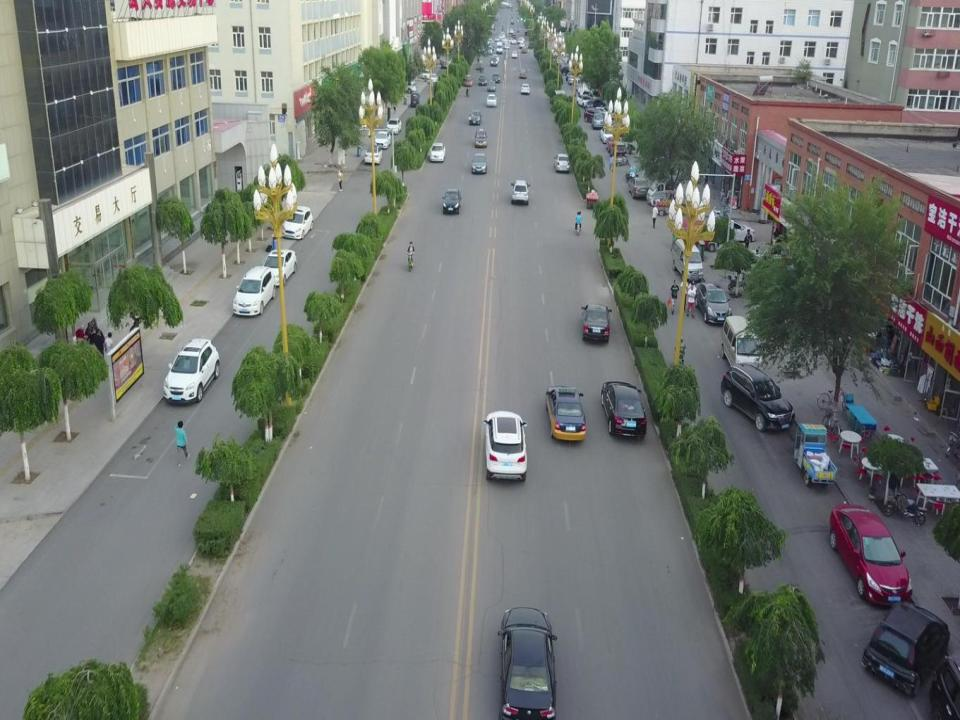car: (830, 503, 912, 608), (865, 600, 949, 700), (501, 607, 557, 720), (722, 366, 795, 431), (162, 340, 220, 404), (485, 411, 527, 483), (601, 380, 647, 439), (546, 388, 586, 442), (232, 268, 276, 316), (696, 282, 732, 326), (675, 219, 720, 253), (262, 247, 297, 289), (281, 205, 313, 242), (580, 304, 611, 342), (714, 217, 756, 245), (442, 189, 462, 216), (628, 178, 650, 200), (512, 180, 529, 204), (552, 153, 570, 174), (365, 146, 382, 166), (609, 142, 627, 160), (472, 153, 487, 174), (431, 142, 446, 163), (386, 115, 402, 134), (583, 109, 601, 124), (375, 132, 390, 148), (584, 100, 604, 112), (606, 136, 620, 153), (587, 89, 601, 104), (591, 112, 603, 129), (476, 129, 487, 147), (577, 94, 592, 107), (470, 111, 482, 126), (399, 82, 415, 93), (601, 129, 613, 143), (485, 95, 497, 108), (578, 84, 592, 94), (565, 71, 576, 83), (567, 75, 578, 86), (520, 85, 532, 95), (464, 76, 473, 88), (429, 73, 438, 84), (478, 75, 487, 86), (421, 69, 430, 79), (489, 58, 498, 68), (488, 81, 496, 92), (441, 60, 449, 70), (519, 69, 527, 79), (502, 40, 510, 50), (476, 60, 484, 70), (556, 55, 564, 64), (561, 65, 569, 73), (507, 37, 516, 44), (486, 45, 492, 55), (485, 38, 492, 46), (552, 48, 558, 57), (521, 46, 527, 53), (511, 52, 517, 58), (519, 41, 524, 48), (502, 36, 507, 43), (494, 37, 500, 42), (509, 28, 514, 34), (517, 38, 523, 43), (510, 21, 514, 25)
van: (720, 316, 762, 382), (673, 238, 703, 283), (647, 180, 683, 206), (410, 92, 420, 108), (496, 42, 503, 54)
